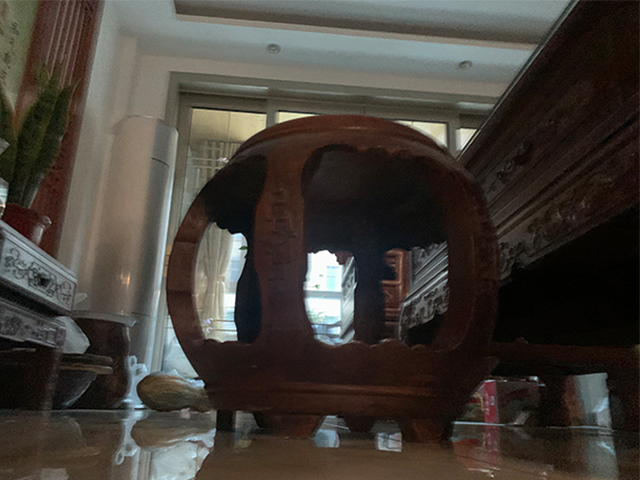cabinet: (1, 221, 81, 414)
stool: (163, 114, 502, 443)
table: (395, 1, 640, 441)
